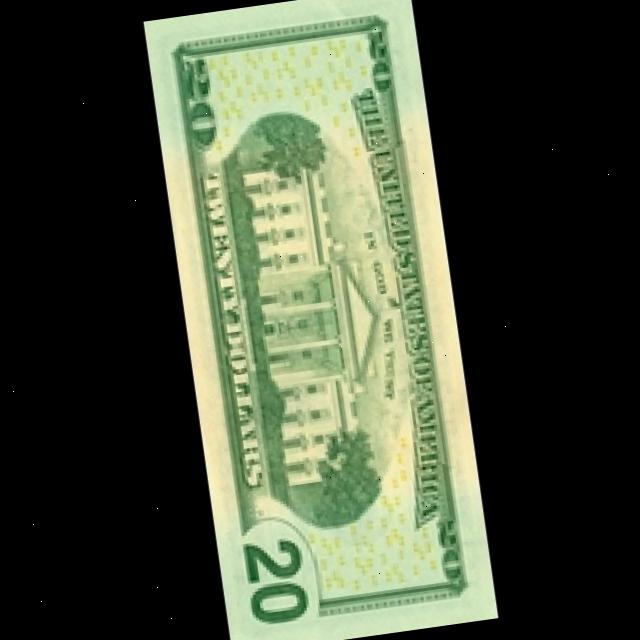banknote: (142, 0, 500, 640)
